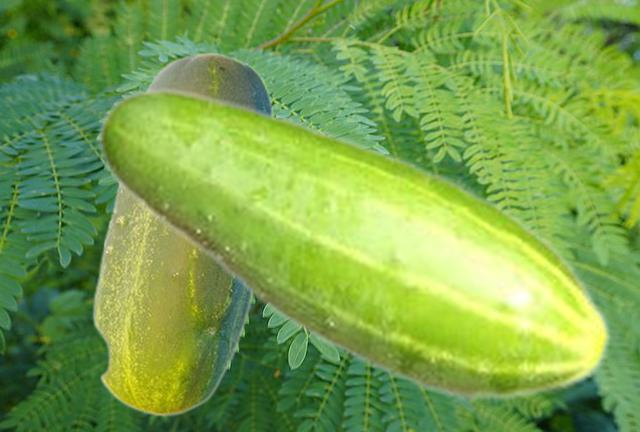cucumber: (96, 86, 612, 404), (91, 51, 273, 416)
